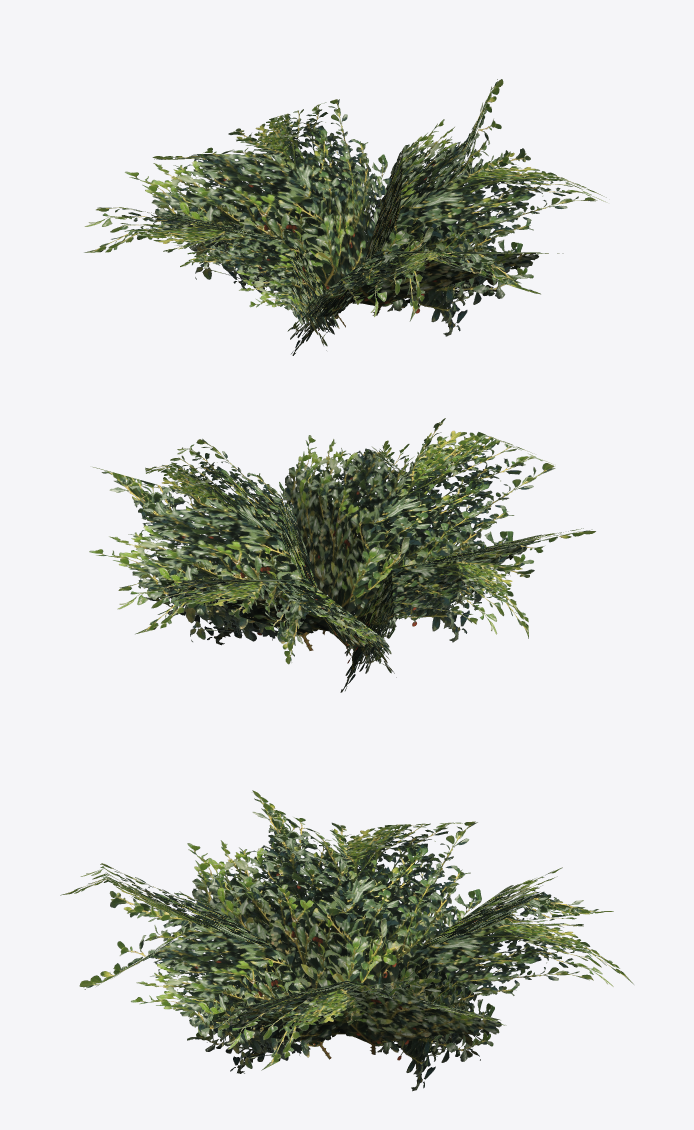
File: blueberrybush.fbx
3 views of the same model, one above another, from view 1: azimuth 30°, elevation 25°; view 2: azimuth 150°, elevation 25°; view 3: azimuth 270°, elevation 25° (orthographic). The views are drawn at different scales.
Visible parts, largest first — view 1: Plane.003; view 2: Plane.003; view 3: Plane.003.
Part boxes in pixels (<box>): Plane.003: <box>84,79,607,355</box>; Plane.003: <box>89,418,595,692</box>; Plane.003: <box>60,790,633,1091</box>.
Bounding box in the file's own units: 47.69 × 16.54 × 47.69.
Materials: 1 (1 with a texture image).
